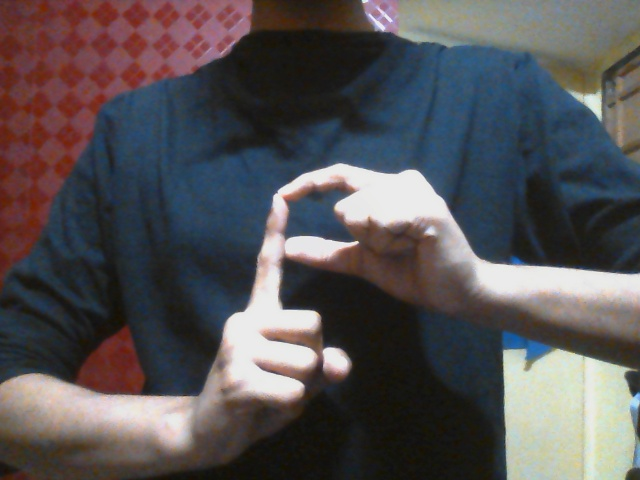P: (194, 161, 468, 441)
